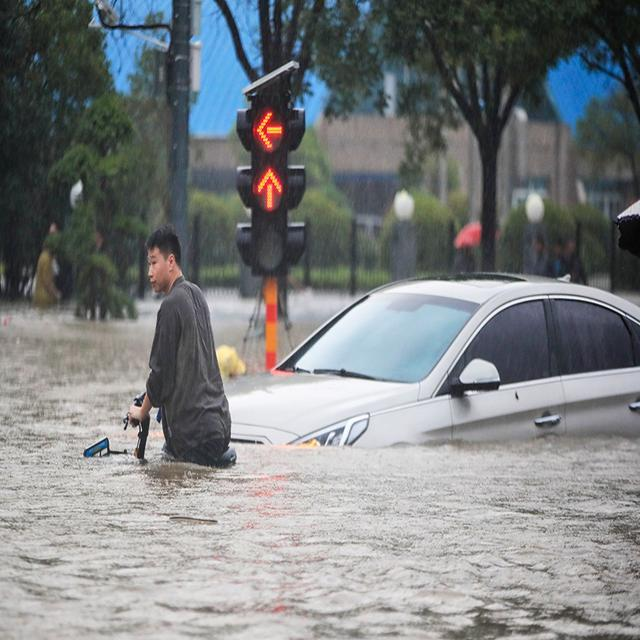Car-RiskLevel3: (226, 265, 640, 457)
Person-RiskLevel2: (116, 219, 242, 475)
